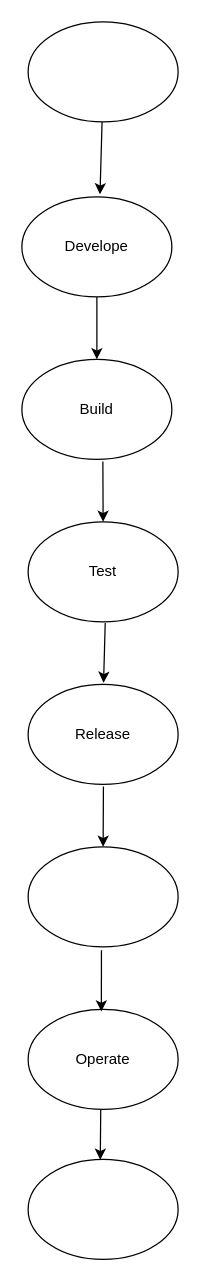
The diagram is 200 pixels wide and 1281 high, and some of its shapes have lost their labels. The centre of each missing label's shape, as x and y in pixels:
"Deployee" belongs at point (102, 896).
"Monitor" belongs at point (102, 1208).
"plan" belongs at point (102, 71).
